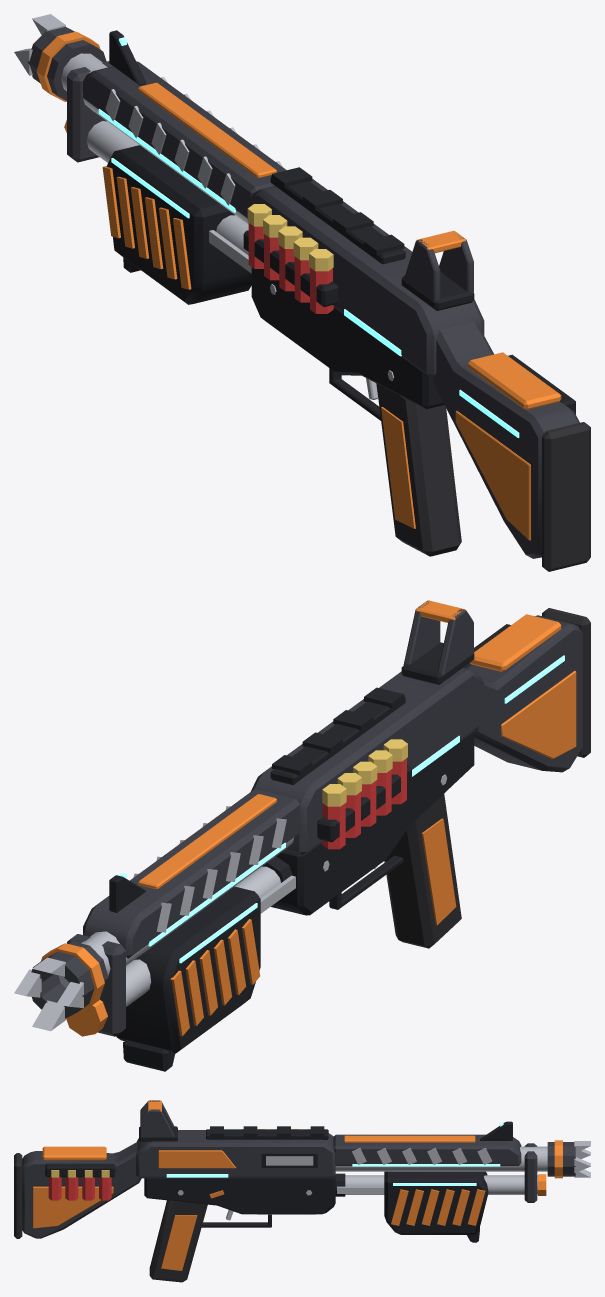
Rendered from HavocPump.glb.
The picture shows the model from 3 angles, top to bottom: view 1: azimuth 30°, elevation 25°; view 2: azimuth 150°, elevation 25°; view 3: azimuth 270°, elevation 25°; orthographic projection. The views are drawn at different scales.
Visible parts, largest first — view 1: Body, PumpBody, Stock, Lower, Grip, HeatShield, ButtPad, StockPlate, ShieldSpine, CheekRest, GripInlay, Clamp (+17 smaller); view 2: Body, PumpBody, HeatShield, Lower, Stock, Grip, StockPlate, ShieldSpine, CheekRest, GripInlay, Breacher, Clamp (+23 smaller); view 3: Lower, Body, PumpBody, HeatShield, Stock, Grip, StockPlate, Barrel, SidePlate, Tube, GripInlay, ShieldSpine (+25 smaller).
Part boxes in pixels (box(x1,y1,x2,y2)): Body: box(249, 179, 484, 377); PumpBody: box(106, 145, 251, 304); Stock: box(434, 321, 579, 558); Lower: box(251, 267, 444, 409); Grip: box(376, 383, 461, 556); HeatShield: box(83, 61, 286, 218); ButtPad: box(542, 422, 590, 571); StockPlate: box(455, 411, 530, 540); ShieldSpine: box(138, 82, 276, 177); CheekRest: box(468, 352, 561, 409); GripInlay: box(381, 407, 415, 528); Clamp: box(67, 61, 112, 162); Body: box(250, 668, 484, 854); PumpBody: box(116, 886, 260, 1053); HeatShield: box(83, 789, 300, 958); Lower: box(271, 730, 474, 915); Stock: box(467, 615, 582, 772); Grip: box(384, 793, 461, 948); StockPlate: box(501, 670, 576, 758); ShieldSpine: box(138, 794, 276, 889); CheekRest: box(470, 614, 561, 671); GripInlay: box(421, 818, 456, 925); Breacher: box(31, 941, 108, 1018); Clamp: box(67, 934, 125, 1036); Lower: box(144, 1176, 335, 1214); Body: box(136, 1130, 335, 1178); PumpBody: box(384, 1171, 488, 1234); HeatShield: box(333, 1134, 521, 1165); Stock: box(22, 1142, 141, 1238); Grip: box(149, 1200, 207, 1282); StockPlate: box(33, 1186, 113, 1228); Barrel: box(335, 1146, 547, 1171); SidePlate: box(158, 1150, 235, 1168); Tube: box(345, 1175, 537, 1194); GripInlay: box(161, 1215, 197, 1270); ShieldSpine: box(344, 1135, 475, 1142).
Size of the model in its own units: 0.3796 by 1.37 by 4.14.
